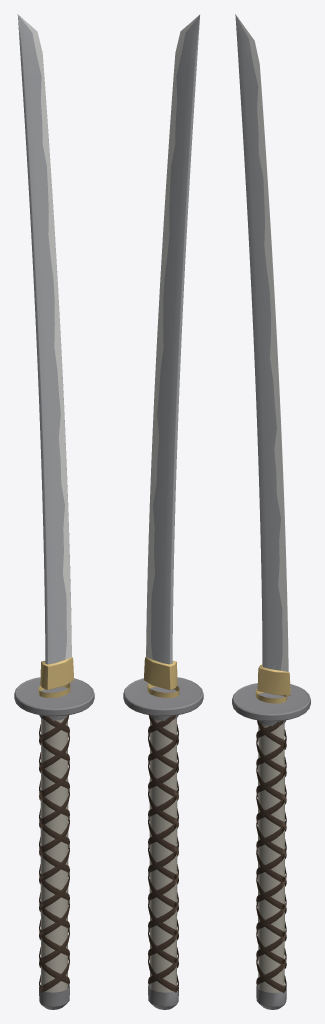
The model's file is gear_edo_katana.glb.
3 renders of one model, left to right at view 1: azimuth 30°, elevation 25°; view 2: azimuth 150°, elevation 25°; view 3: azimuth 330°, elevation 25°, orthographic.
Visible parts, largest first — view 1: gear_edo_katana; view 2: gear_edo_katana; view 3: gear_edo_katana.
Boxes of the visible parts, x1,y1,x2,y2 form: gear_edo_katana: (14,14,94,1009); gear_edo_katana: (123,14,203,1009); gear_edo_katana: (232,14,310,1009).
Bounding box in the file's own units: 0.0824 × 1.1 × 0.08.
